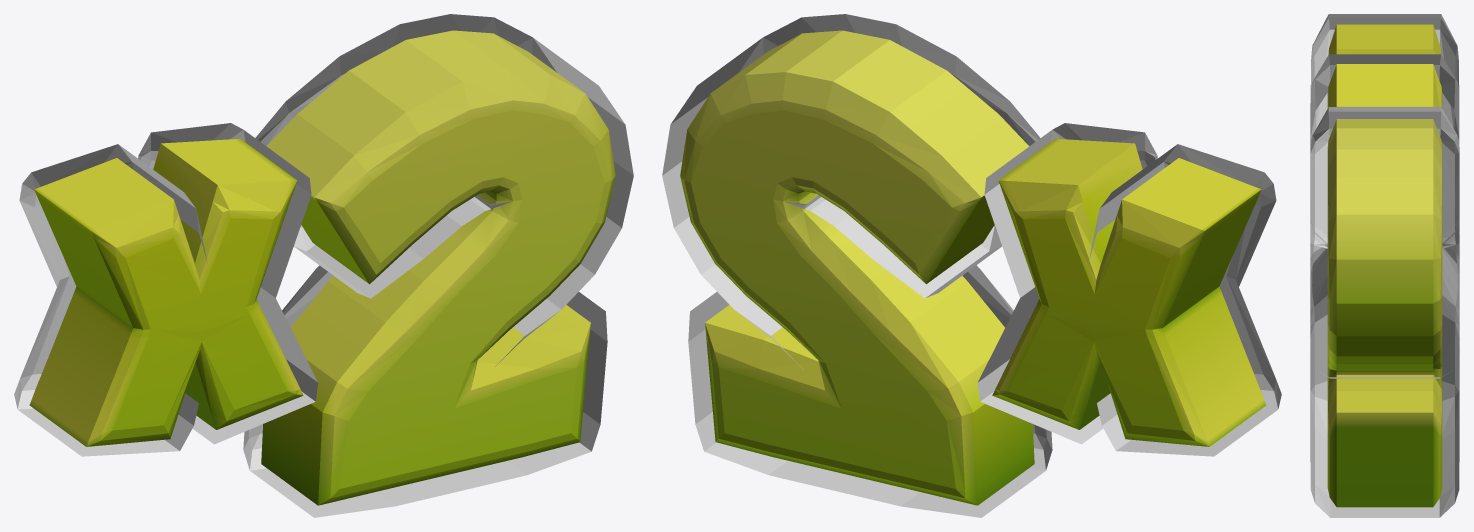
The model's file is X2Score.glb.
3 renders of one model, left to right at view 1: azimuth 30°, elevation 25°; view 2: azimuth 150°, elevation 25°; view 3: azimuth 270°, elevation 25°, orthographic. The views are drawn at different scales.
Visible parts, largest first — view 1: xTwoGreen_outline; view 2: xTwoGreen_outline; view 3: xTwoGreen_outline.
Boxes of the visible parts, bbox=[...] form: xTwoGreen_outline: bbox=[14, 14, 633, 517]; xTwoGreen_outline: bbox=[662, 14, 1281, 517]; xTwoGreen_outline: bbox=[1310, 14, 1459, 517].
Bounding box in the file's own units: 0.9383 × 0.675 × 0.2575.
